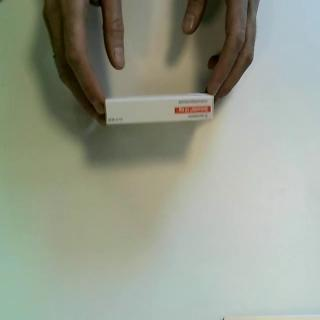dolcontin10mg: (105, 92, 217, 128)
